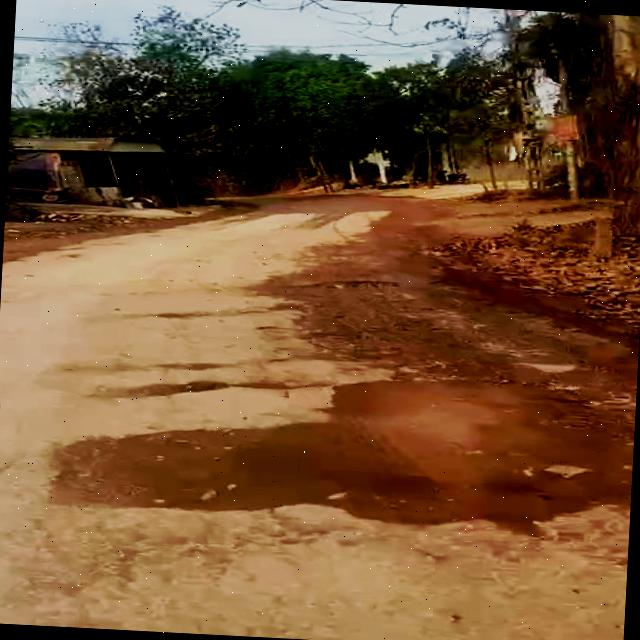pothole: (38, 342, 638, 546)
